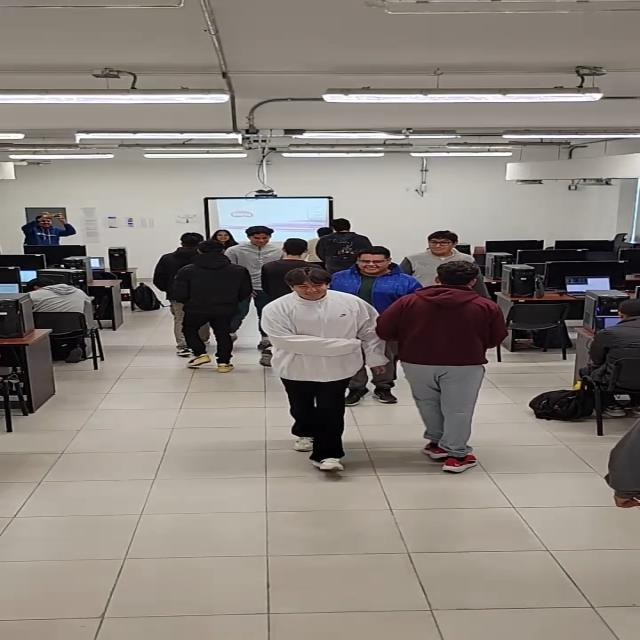Persona: (261, 266, 393, 474), (376, 261, 502, 476), (166, 237, 255, 373), (331, 246, 423, 306), (222, 225, 284, 314), (399, 230, 483, 292), (260, 237, 324, 298), (316, 218, 378, 265), (204, 226, 242, 251)
